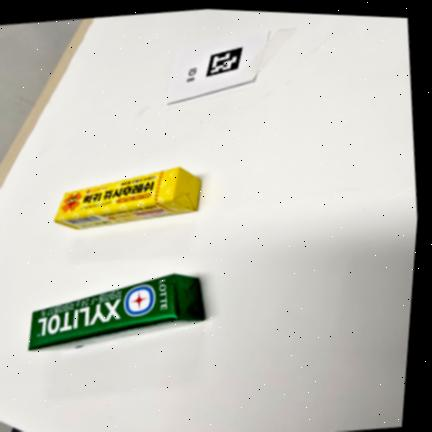gum_green: (28, 273, 204, 350)
gum_yellow: (54, 167, 200, 229)
